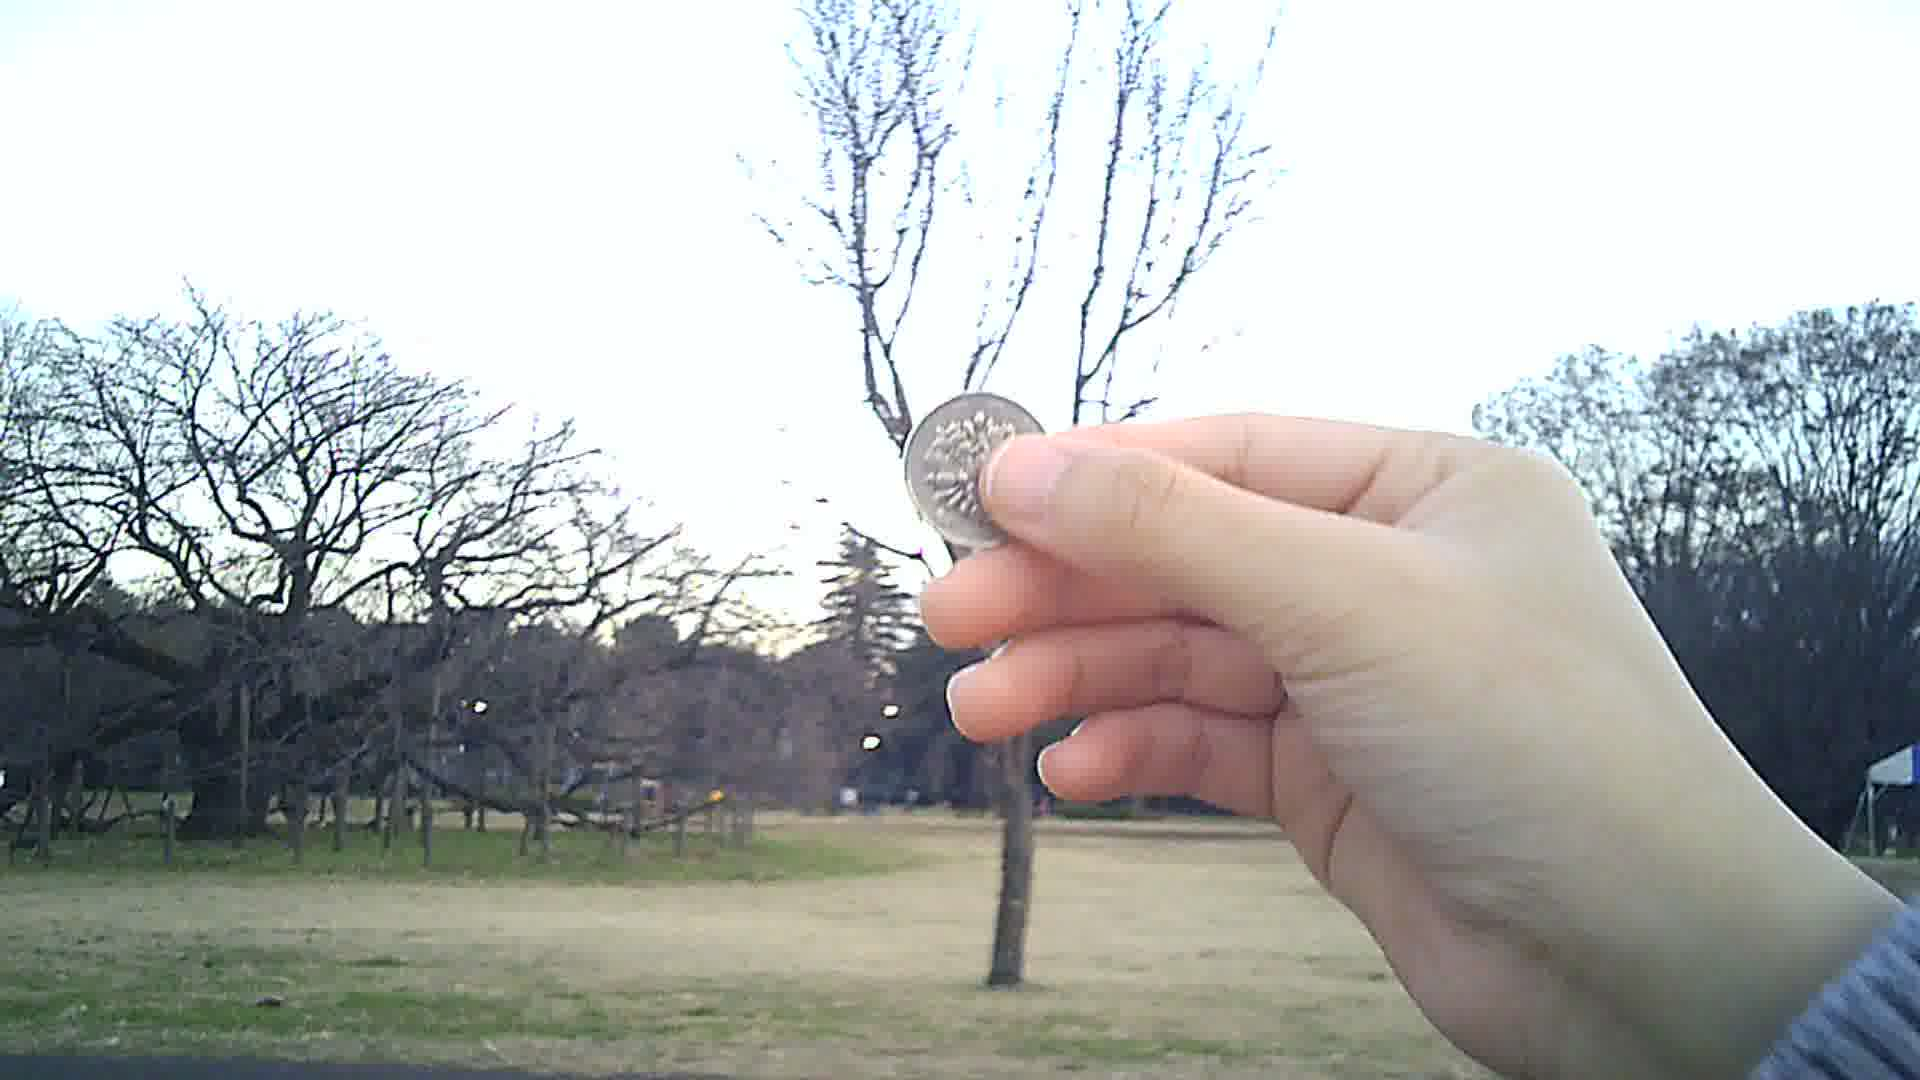100 Yen: (894, 393, 1054, 556)
